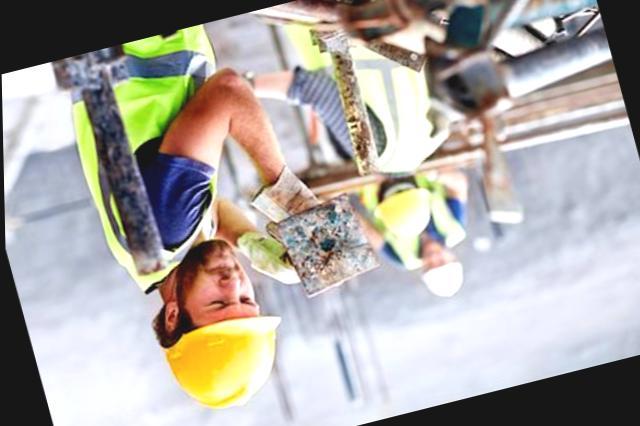helmet: (157, 312, 292, 412), (369, 184, 440, 249), (415, 259, 470, 300)
vest: (63, 23, 264, 290), (304, 5, 442, 183), (380, 217, 463, 266)
